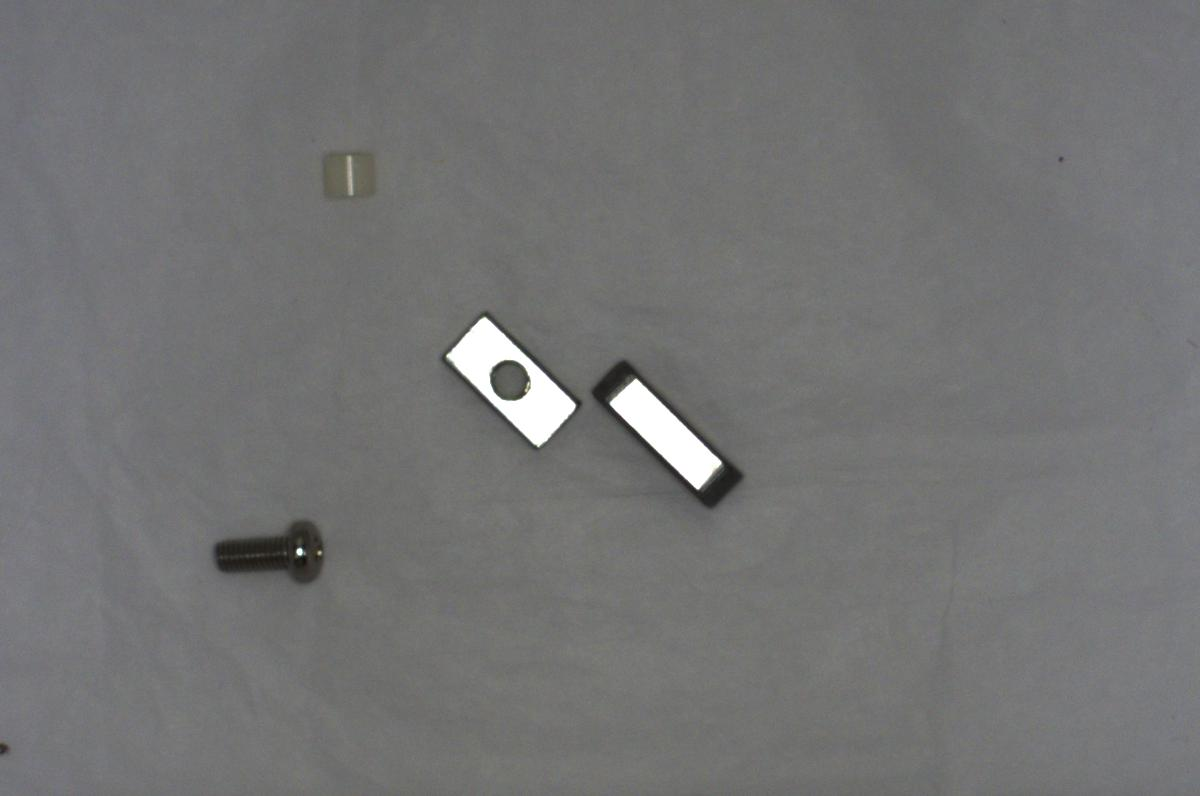Keybar: (593, 360, 742, 513)
Plastic cushion pillar: (315, 136, 380, 206)
Rectangular nut: (439, 308, 578, 447)
Round head screw: (206, 510, 331, 586)
